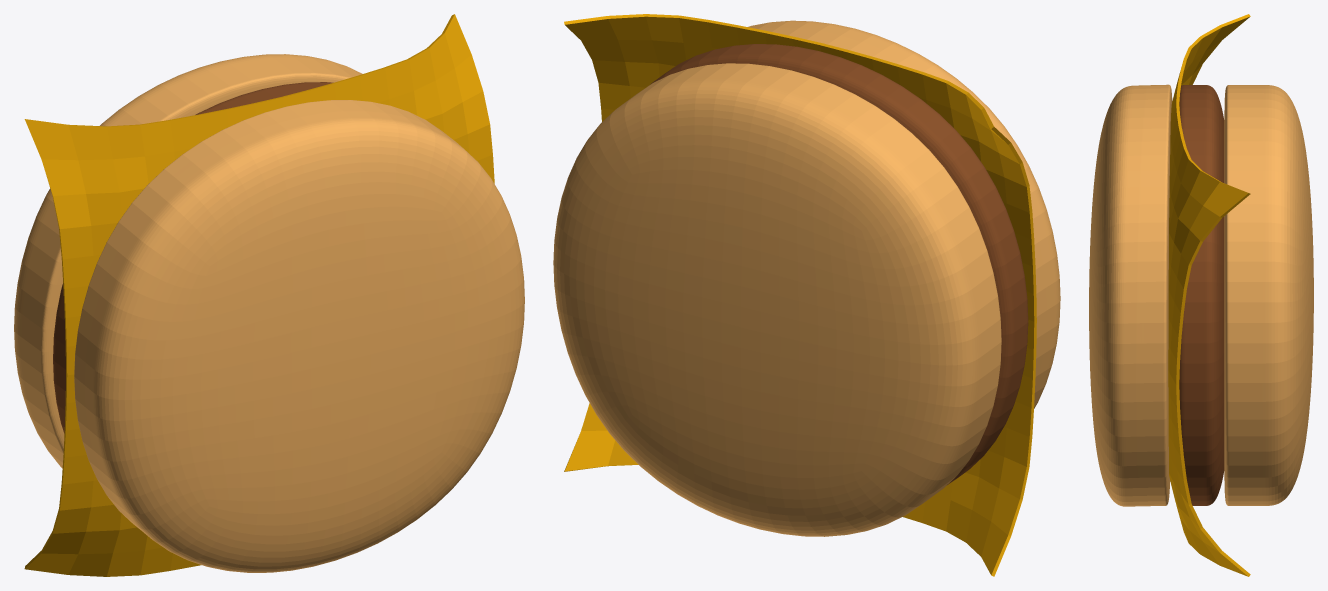
The model's file is burguer.gltf.
3 views of the same model, side by side, from view 1: azimuth 30°, elevation 25°; view 2: azimuth 150°, elevation 25°; view 3: azimuth 270°, elevation 25° (orthographic). The views are drawn at different scales.
Visible parts, largest first — view 1: BunMaterial, Plane, Cube, Cube.001; view 2: Cube, Plane, Cube.001, BunMaterial; view 3: Cube, BunMaterial, Cube.001, Plane.
Boxes of the visible parts, bbox=[...] form: BunMaterial: bbox=[74, 100, 524, 572]; Plane: bbox=[24, 14, 494, 576]; Cube: bbox=[14, 54, 362, 468]; Cube.001: bbox=[53, 82, 333, 433]; Cube: bbox=[553, 63, 1001, 536]; Plane: bbox=[564, 14, 1036, 576]; Cube.001: bbox=[650, 44, 1028, 484]; BunMaterial: bbox=[748, 20, 1060, 408]; Cube: bbox=[1224, 85, 1313, 505]; BunMaterial: bbox=[1089, 84, 1172, 506]; Cube.001: bbox=[1179, 85, 1224, 505]; Plane: bbox=[1168, 14, 1250, 576].
Size of the model in its own units: 10.45 by 10.45 by 5.55.
